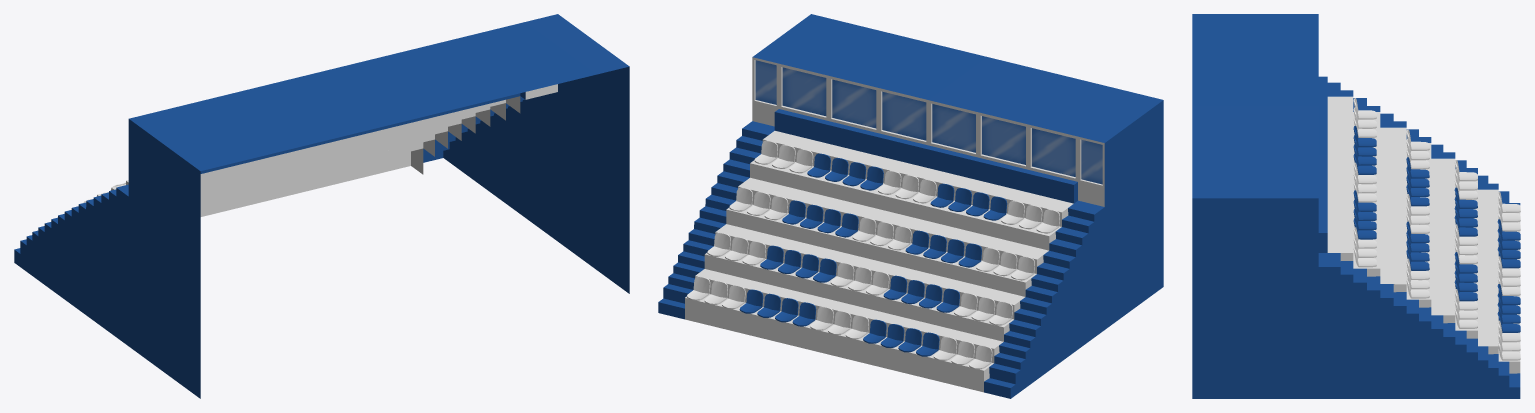
The model's file is SeatsFlat.fbx.
3 renders of one model, left to right at view 1: azimuth 30°, elevation 25°; view 2: azimuth 150°, elevation 25°; view 3: azimuth 270°, elevation 25°, orthographic. The views are drawn at different scales.
Visible parts, largest first — view 1: SeatsFlat; view 2: SeatsFlat; view 3: SeatsFlat.
Part boxes in pixels (bbox=[...]): SeatsFlat: bbox=[14, 14, 629, 398]; SeatsFlat: bbox=[658, 14, 1163, 398]; SeatsFlat: bbox=[1192, 14, 1520, 398].
Bounding box in the file's own units: 1019 × 517 × 767.
